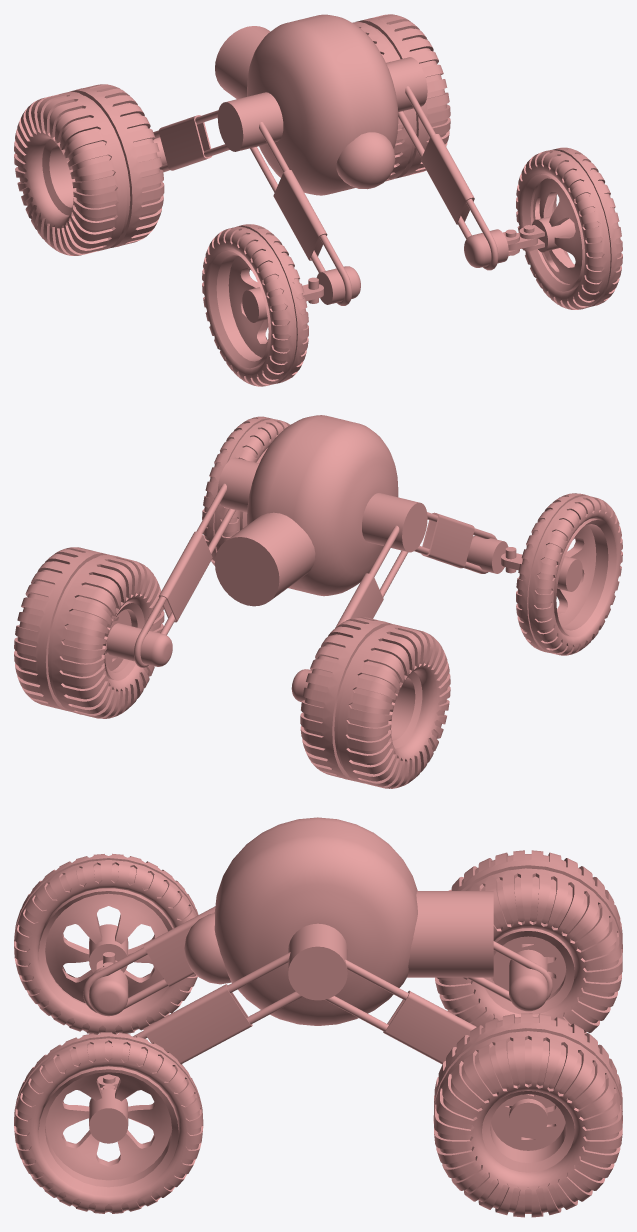
The model's file is babylonRover.glb.
3 renders of one model, top to bottom at view 1: azimuth 30°, elevation 25°; view 2: azimuth 150°, elevation 25°; view 3: azimuth 270°, elevation 25°, orthographic. The views are drawn at different scales.
Parts seen in each view (by area): view 1: Cylinder; view 2: Cylinder; view 3: Cylinder.
Part boxes in pixels (bbox=[...]): Cylinder: bbox=[14, 14, 622, 386]; Cylinder: bbox=[14, 415, 622, 788]; Cylinder: bbox=[14, 817, 622, 1217].
Bounding box in the file's own units: 4.79 × 3.11 × 5.89.
